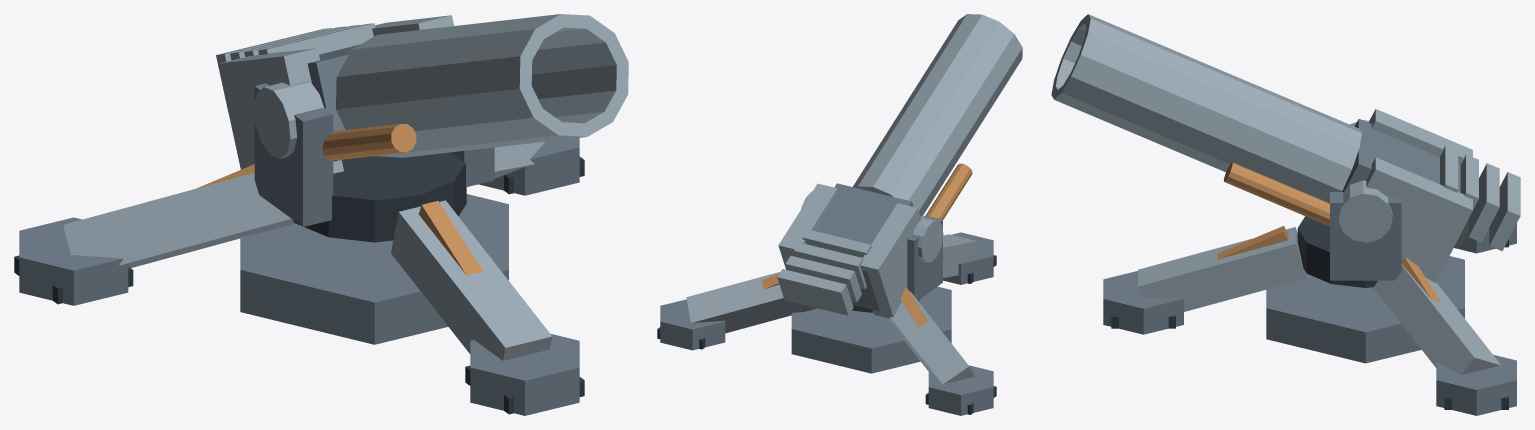
File: howitzer_t3.glb
The picture shows the model from 3 angles, left to right: view 1: azimuth 30°, elevation 25°; view 2: azimuth 150°, elevation 25°; view 3: azimuth 270°, elevation 25°; orthographic projection. The views are drawn at different scales.
Visible parts, largest first — view 1: Siege barrel wall, Heavy stabilizer armor (×3), Ground plinth, Ground shoe (×3), Bearing, Cradle (×2), Breech cheek (×2), Elevation motor, Recoil absorber, Hydraulic strut armor, Breech, Capacitor; view 2: Siege barrel wall, Heavy stabilizer armor (×3), Ground plinth, Ground shoe (×3), Capacitor (×4), Breech cheek (×2), Breech, Cradle, Recoil absorber, Elevation motor, Hydraulic strut armor; view 3: Siege barrel wall, Heavy stabilizer armor (×2), Ground plinth, Breech cheek (×2), Ground shoe (×3), Capacitor (×4), Cradle, Breech, Elevation motor, Recoil absorber, Bearing, Hydraulic strut armor (×2).
Boxes of the visible parts, x1,y1,x2,y2 form: Siege barrel wall: (336, 14, 628, 157); Heavy stabilizer armor (×3): (63, 141, 552, 360); Ground plinth: (240, 194, 508, 344); Ground shoe (×3): (19, 138, 579, 415); Bearing: (293, 152, 466, 242); Cradle (×2): (254, 83, 494, 226); Breech cheek (×2): (218, 15, 453, 173); Elevation motor: (253, 81, 323, 158); Recoil absorber: (322, 124, 416, 160); Hydraulic strut armor: (418, 200, 483, 275); Breech: (307, 44, 359, 161); Capacitor: (258, 23, 375, 54); Siege barrel wall: (853, 14, 1022, 216); Heavy stabilizer armor (×3): (686, 234, 977, 384); Ground plinth: (791, 286, 951, 373); Ground shoe (×3): (660, 232, 993, 415); Capacitor (×4): (777, 229, 871, 315); Breech cheek (×2): (778, 183, 921, 318); Breech: (794, 183, 913, 311); Cradle: (907, 215, 942, 300); Recoil absorber: (926, 163, 972, 219); Elevation motor: (912, 216, 943, 262); Hydraulic strut armor: (900, 287, 927, 326); Siege barrel wall: (1051, 14, 1361, 203); Heavy stabilizer armor (×2): (1138, 227, 1500, 374); Ground plinth: (1266, 256, 1464, 363); Breech cheek (×2): (1366, 109, 1472, 283); Ground shoe (×3): (1103, 223, 1516, 415); Capacitor (×4): (1440, 145, 1520, 251); Cradle: (1330, 192, 1401, 280); Breech: (1342, 119, 1460, 192); Elevation motor: (1338, 180, 1392, 242); Recoil absorber: (1223, 162, 1329, 226); Bearing: (1297, 216, 1377, 287); Hydraulic strut armor (×2): (1217, 226, 1440, 301).
Bounding box in the file's own units: 3.33 × 2.32 × 3.28.
